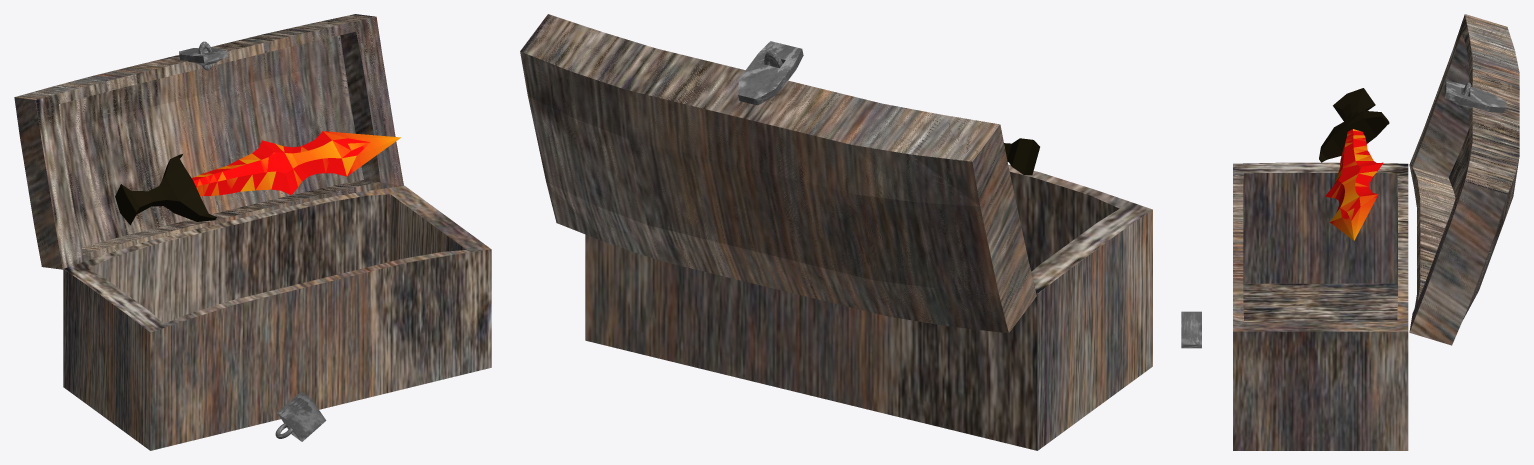
Rendered from skrinjaodprta+sword.gltf.
3 views of the same model, side by side, from view 1: azimuth 30°, elevation 25°; view 2: azimuth 150°, elevation 25°; view 3: azimuth 270°, elevation 25° (orthographic). The views are drawn at different scales.
Visible parts, largest first — view 1: Cube, Cube.001, Plane, swordInChest, Cube.002, Plane.001; view 2: Cube.001, Cube, Plane.001, swordInChest; view 3: Cube, Cube.001, Plane, swordInChest, Plane.001, Cube.002.
Boxes of the visible parts, box(x1,y1,x2,y2) form: Cube: box(63, 185, 491, 450); Cube.001: box(14, 14, 403, 269); Plane: box(192, 131, 400, 196); swordInChest: box(115, 154, 216, 225); Cube.002: box(277, 391, 326, 441); Plane.001: box(179, 48, 227, 65); Cube.001: box(520, 14, 1036, 333); Cube: box(585, 164, 1152, 450); Plane.001: box(738, 41, 803, 105); swordInChest: box(1004, 138, 1039, 175); Cube: box(1233, 162, 1408, 450); Cube.001: box(1409, 14, 1519, 345); Plane: box(1325, 129, 1383, 240); swordInChest: box(1319, 88, 1389, 162); Plane.001: box(1444, 80, 1505, 112); Cube.002: box(1181, 311, 1201, 348).
Size of the model in its own units: 4.53 by 3.62 by 3.85.
Materials: 4 (4 with a texture image).
